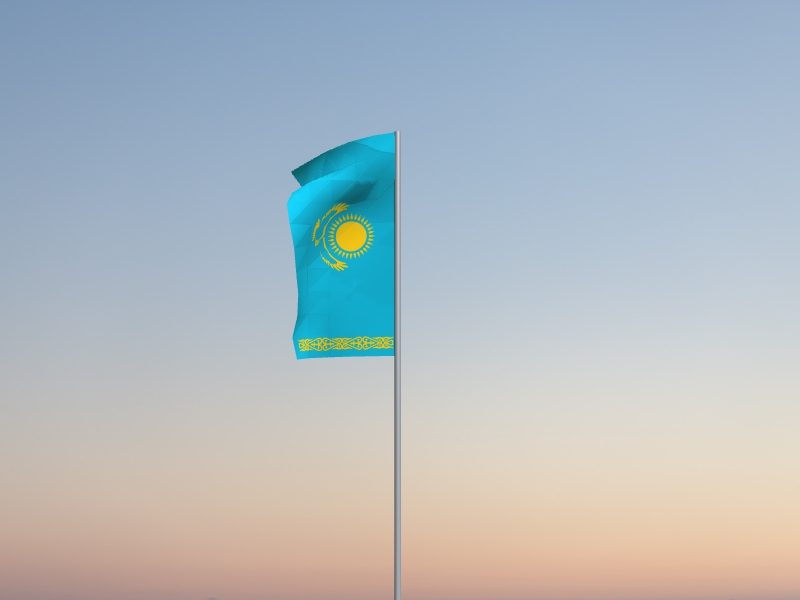kz: (286, 132, 395, 361)
